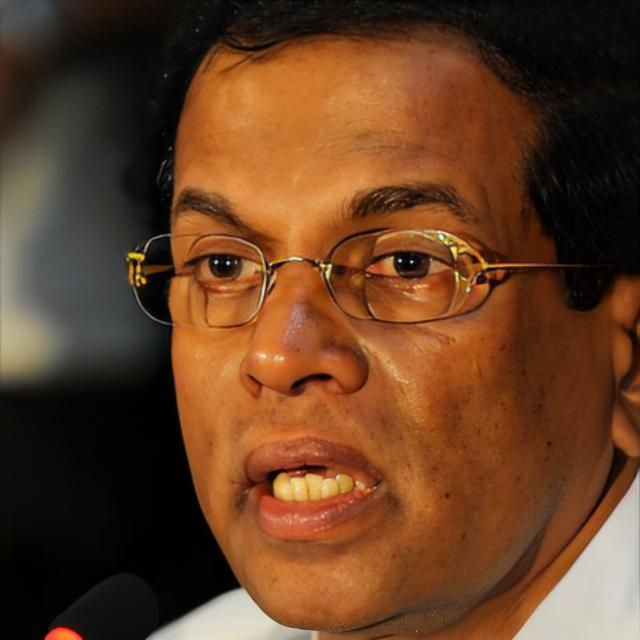disgust: (167, 9, 610, 631)
